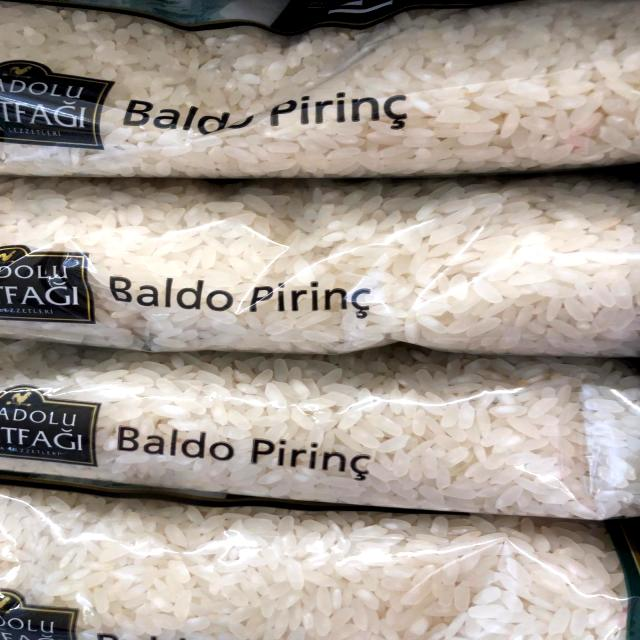rice: (0, 182, 636, 353), (5, 3, 631, 169), (0, 356, 637, 506), (1, 494, 640, 640)
